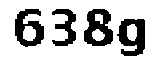3: (50, 6, 76, 52)
6: (12, 9, 43, 49)
8: (81, 8, 115, 49)
g: (116, 15, 148, 60)
